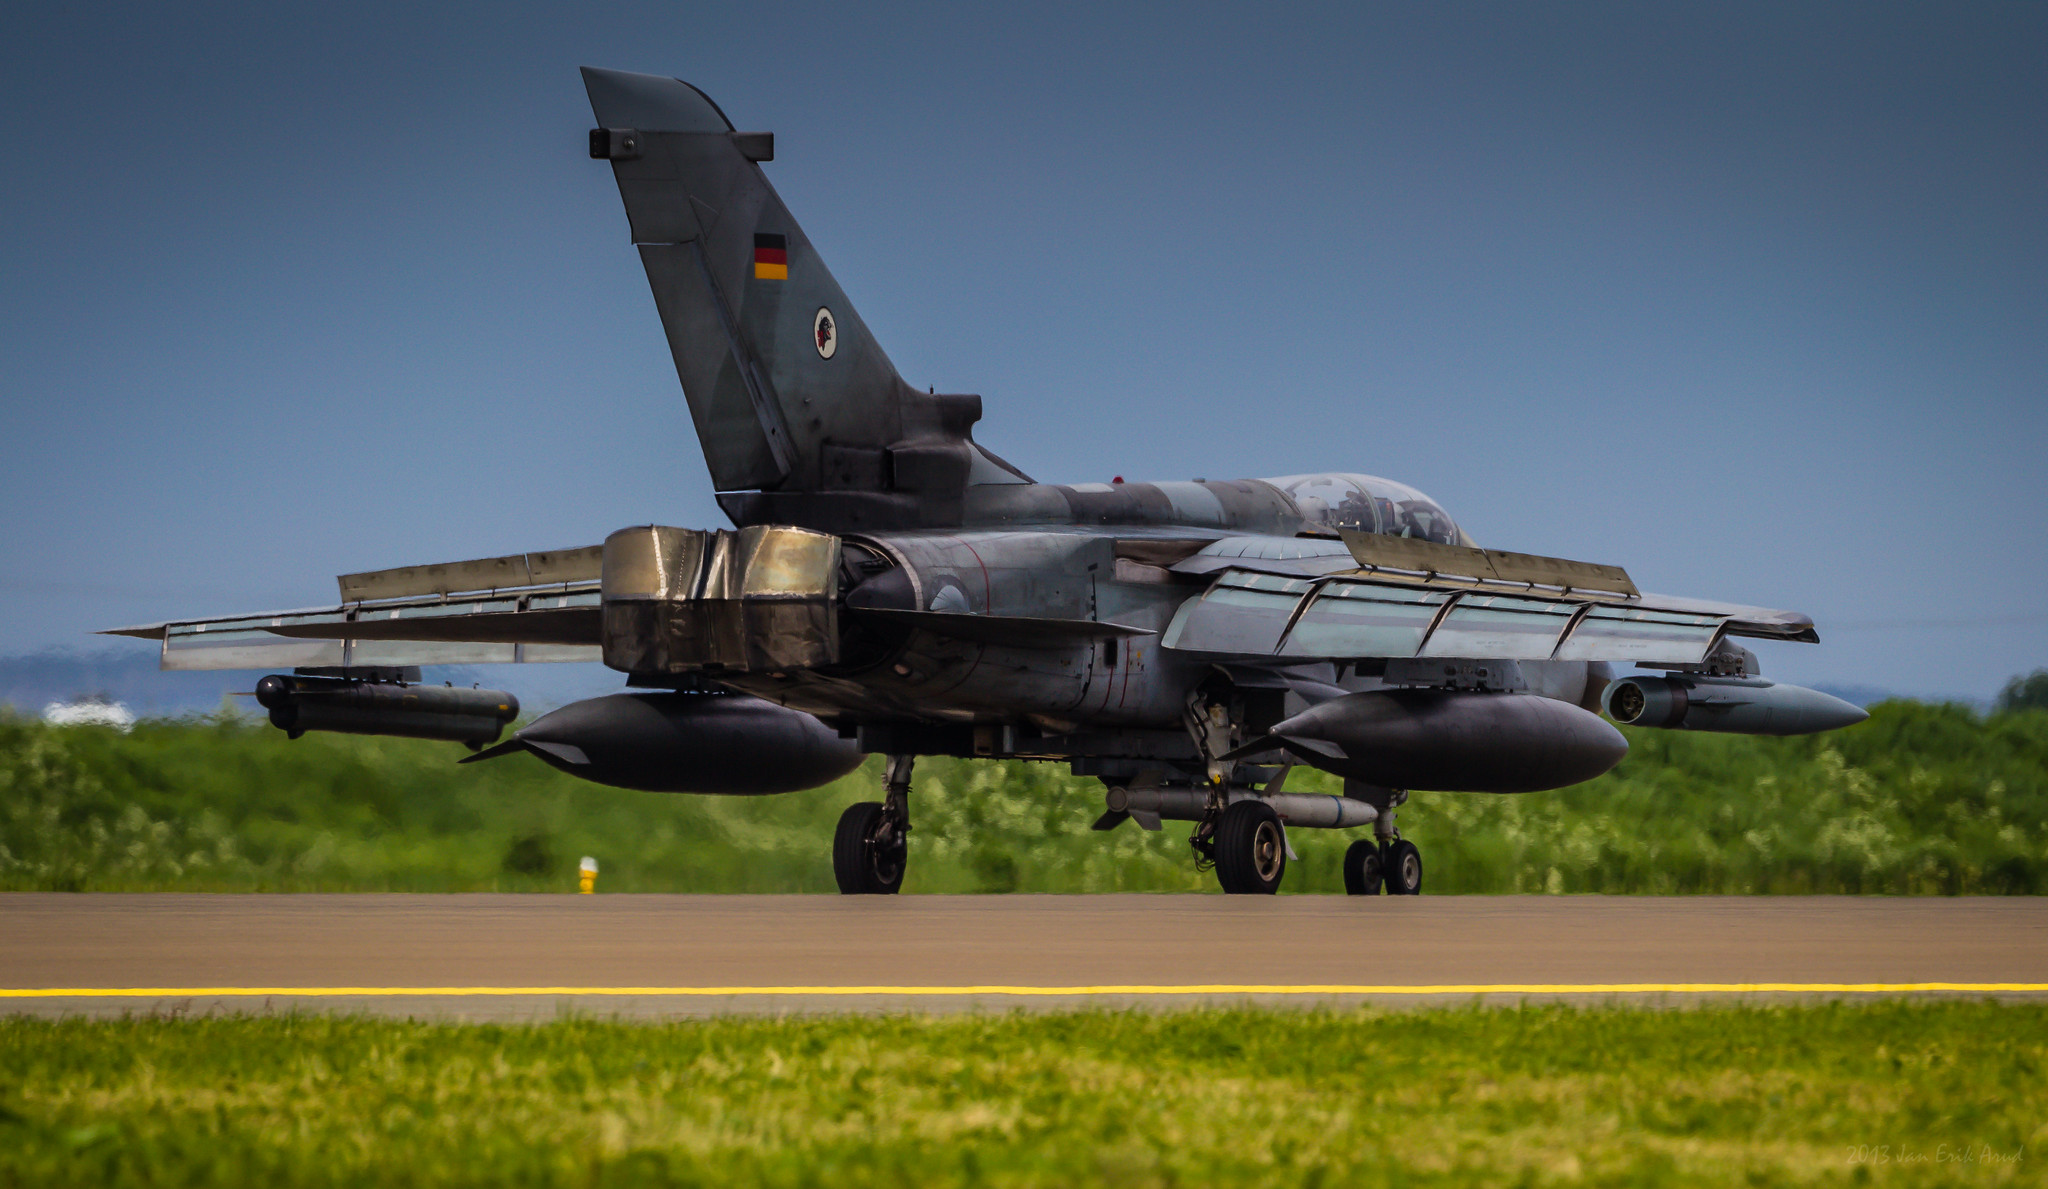Tornado: (84, 65, 1871, 895)
